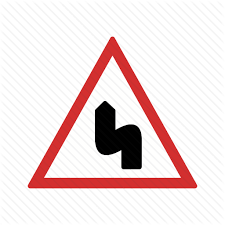Double_bend_left: (28, 37, 200, 189)
